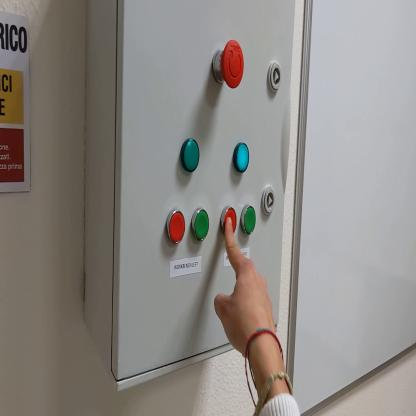hand: (215, 214, 278, 358)
left green button: (194, 205, 210, 243)
left red button: (167, 211, 186, 244)
right green button: (241, 206, 256, 234)
right red button: (220, 206, 238, 238)
